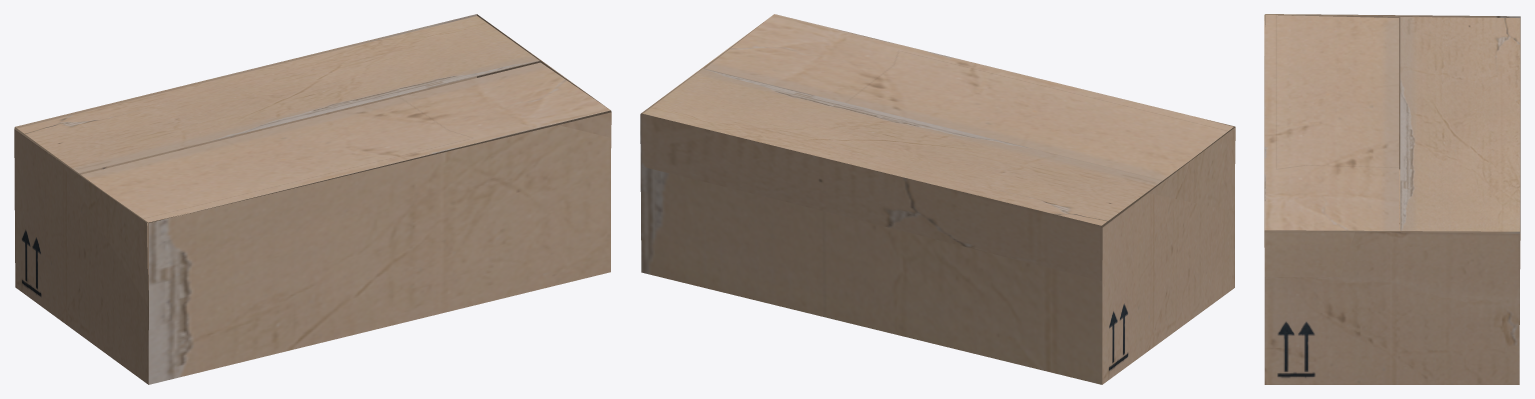
3 views of the same model, side by side, from view 1: azimuth 30°, elevation 25°; view 2: azimuth 150°, elevation 25°; view 3: azimuth 270°, elevation 25° (orthographic). The views are drawn at different scales.
Parts seen in each view (by area): view 1: Box closed; view 2: Box closed; view 3: Box closed.
Boxes of the visible parts, x1,y1,x2,y2 form: Box closed: (14,14,611,384); Box closed: (640,14,1235,384); Box closed: (1264,14,1520,384).
Size of the model in its own units: 0.6 by 0.2 by 0.3.
Materials: 1 (1 with a texture image).
